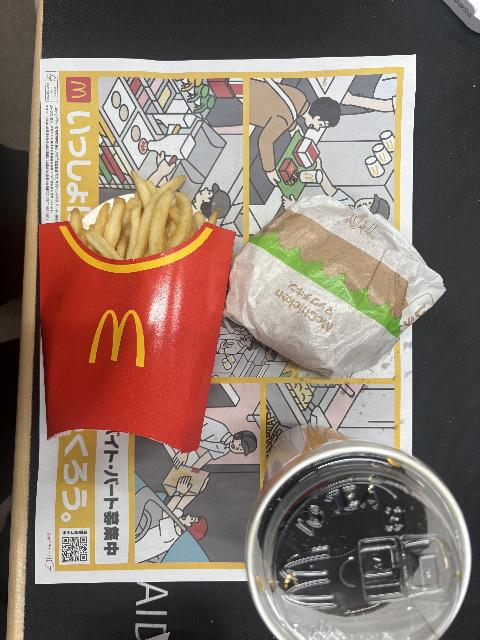burger: (225, 195, 446, 378)
drink: (244, 423, 471, 640)
fries: (37, 170, 236, 454)
